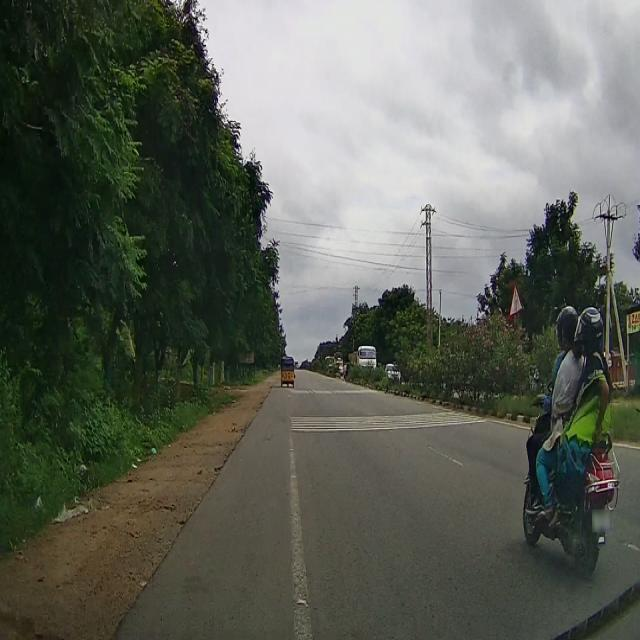gap-in-median: (508, 281, 522, 314)
